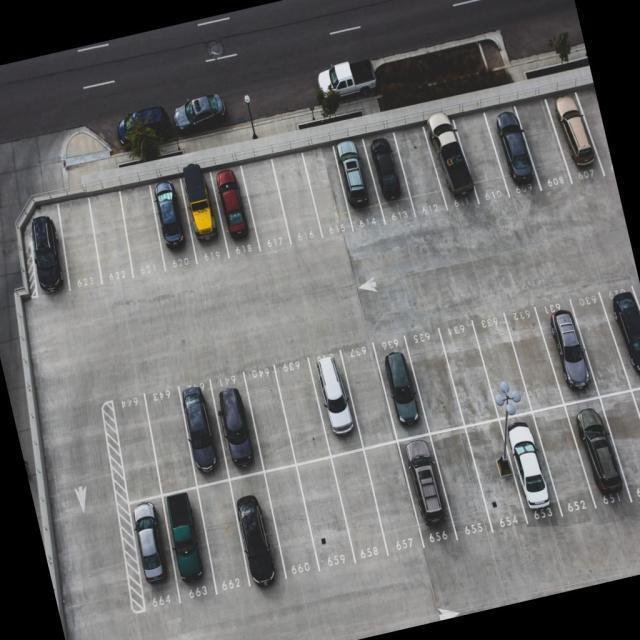space-empty: (532, 406, 596, 521), (363, 440, 423, 554), (331, 450, 390, 564), (262, 466, 321, 580), (434, 428, 494, 538), (196, 478, 253, 593), (300, 458, 358, 569), (109, 396, 165, 501), (407, 330, 463, 434), (571, 292, 627, 395), (455, 113, 514, 210), (510, 305, 564, 410), (141, 392, 196, 494), (393, 125, 451, 221), (274, 359, 328, 461), (445, 319, 498, 422), (269, 150, 323, 250), (474, 312, 526, 414), (341, 347, 394, 447), (241, 160, 294, 260), (520, 103, 576, 196), (302, 146, 357, 240), (245, 366, 296, 467), (54, 195, 103, 294), (118, 182, 168, 277), (84, 190, 134, 284), (600, 388, 640, 502), (577, 88, 617, 181)
space-occupied: (563, 394, 627, 509), (468, 421, 530, 536), (122, 498, 182, 612), (498, 410, 559, 522), (226, 470, 283, 587), (400, 435, 458, 548), (163, 491, 221, 603), (539, 300, 598, 404), (419, 114, 477, 212), (209, 374, 264, 477), (178, 383, 232, 487), (16, 198, 70, 302), (311, 351, 366, 453), (548, 94, 604, 189), (484, 107, 540, 200), (378, 342, 430, 442), (208, 165, 260, 264), (180, 173, 232, 268), (147, 180, 197, 272), (362, 130, 414, 218), (331, 142, 384, 226), (602, 282, 640, 392)
